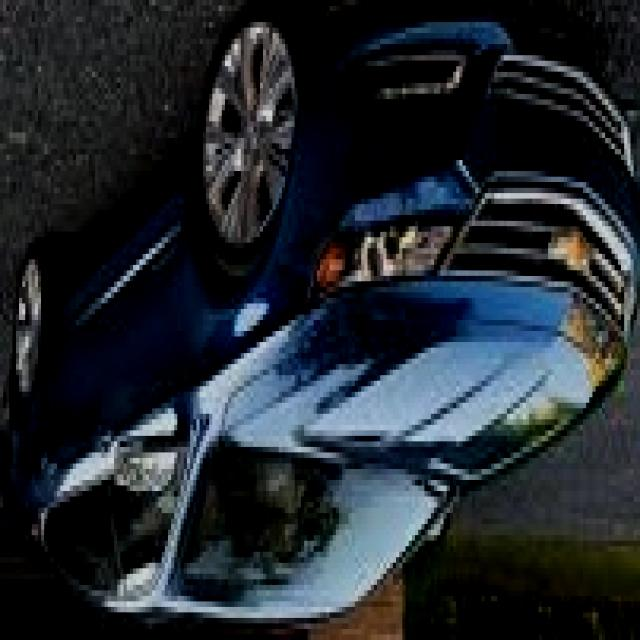blue: (0, 0, 629, 631)
